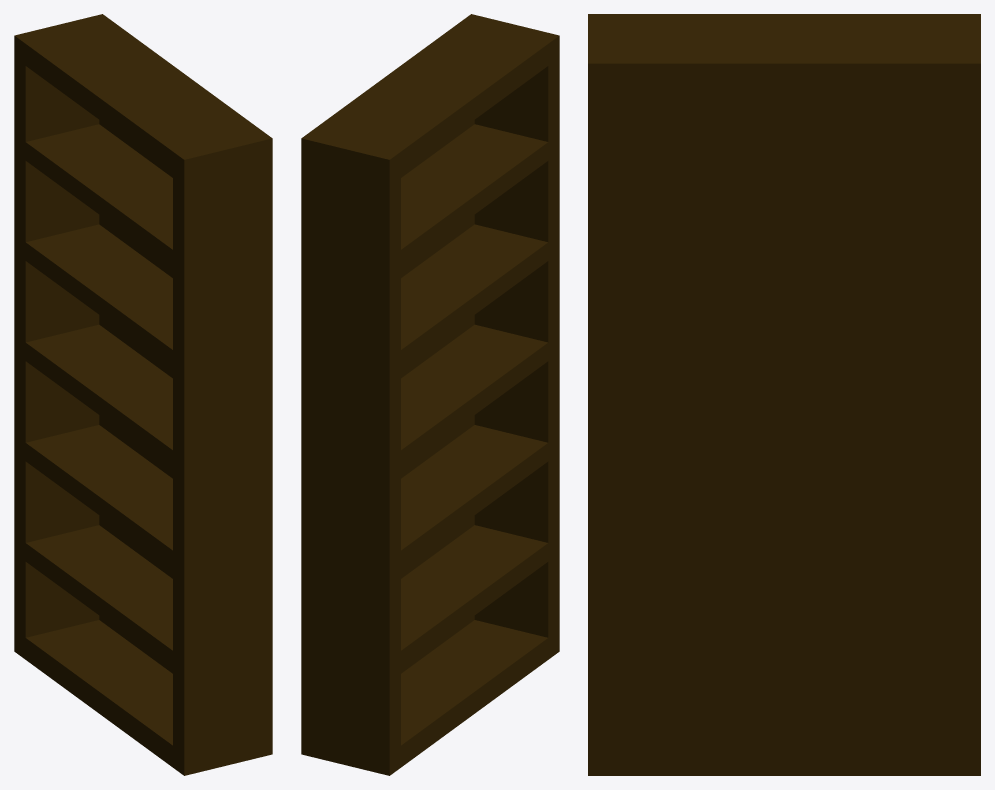
The model's file is lowpoly_bookCase.fbx.
3 renders of one model, left to right at view 1: azimuth 30°, elevation 25°; view 2: azimuth 150°, elevation 25°; view 3: azimuth 270°, elevation 25°, orthographic. The views are drawn at different scales.
Visible parts, largest first — view 1: bookcase; view 2: bookcase; view 3: bookcase.
Boxes of the visible parts, box(x1,y1,x2,y2) form: bookcase: box(14, 14, 272, 775); bookcase: box(301, 14, 559, 775); bookcase: box(588, 14, 980, 775).
Size of the model in its own units: 30 by 200 by 100.
